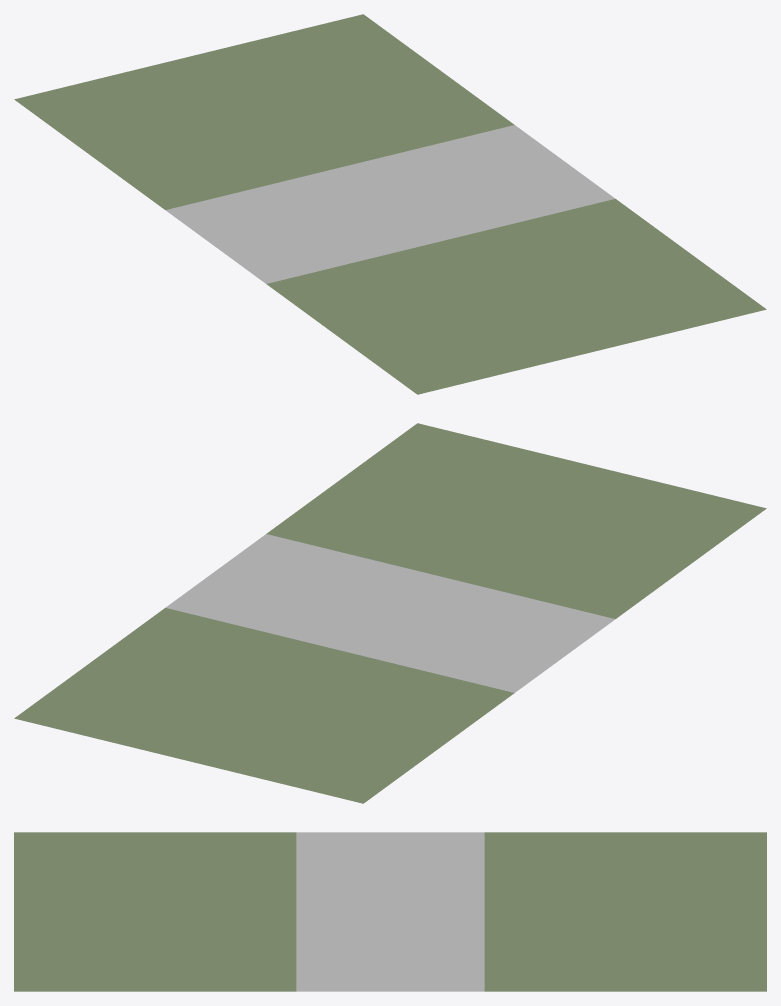
File: Ground_Path.fbx
3 views of the same model, one above another, from view 1: azimuth 30°, elevation 25°; view 2: azimuth 150°, elevation 25°; view 3: azimuth 270°, elevation 25° (orthographic). The views are drawn at different scales.
Parts seen in each view (by area): view 1: Ground_Cement1; view 2: Ground_Cement1; view 3: Ground_Cement1.
Boxes of the visible parts, left/top/right/bottom form: Ground_Cement1: left=14, top=14, right=766, bottom=394; Ground_Cement1: left=14, top=423, right=766, bottom=803; Ground_Cement1: left=14, top=832, right=766, bottom=991.
Size of the model in its own units: 800 by 1.91e-06 by 1600.
